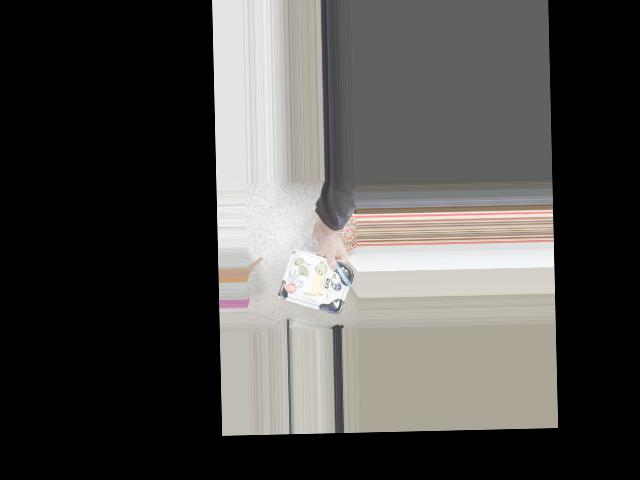cheese: (285, 257, 347, 306)
